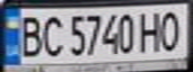0: (115, 10, 139, 54)
4: (100, 10, 121, 55)
5: (63, 11, 87, 56)
7: (81, 11, 103, 56)
B: (15, 11, 45, 58)
C: (39, 11, 66, 57)
H: (136, 8, 163, 53)
O: (157, 7, 187, 53)
